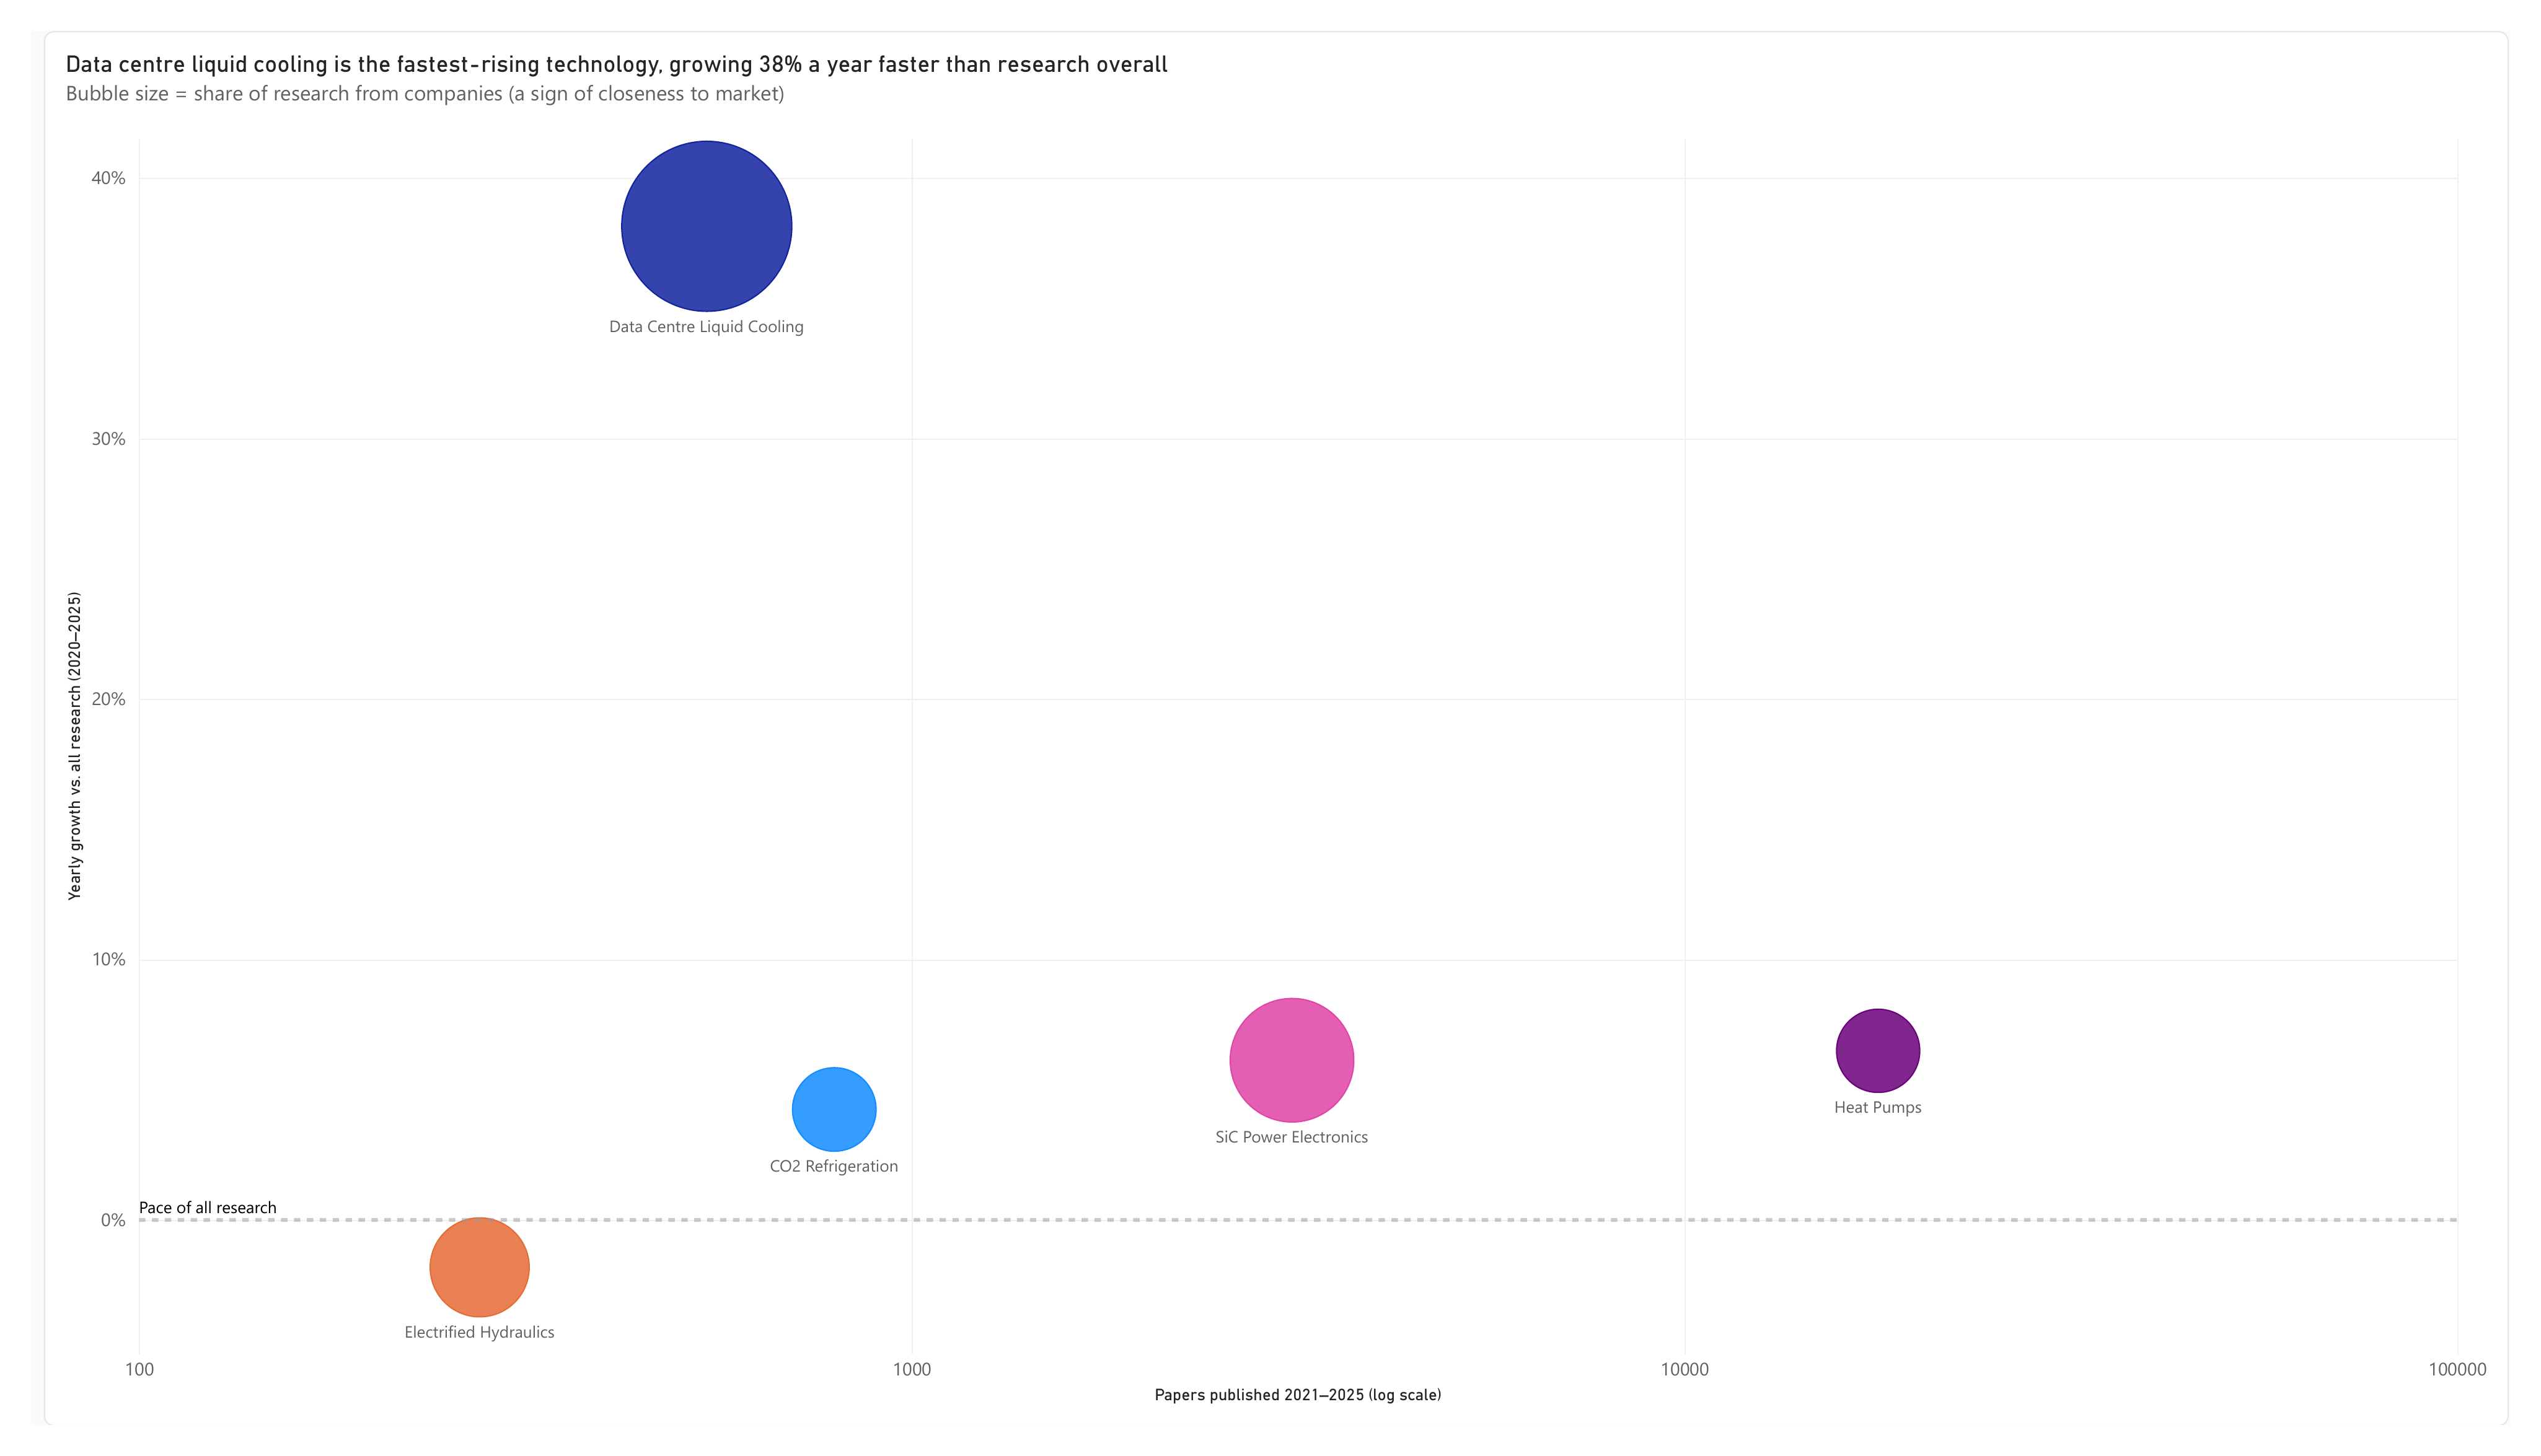

This screenshot's page, from the dashboard's own definition file:
{"tool":"powerbi","page":{"name":"Radar","canvas":[1920,1080],"ordinal":0},"visuals":[{"type":"scatterChart","title":"Data centre liquid cooling is the fastest-rising technology, growing 38% a year faster than research overall","fields":{"Category":["Technology.technology"],"Series":["Technology.technology"],"Size":["_Measures.Company Share %"],"X":["_Measures.Papers 2021-2025"],"Y":["_Measures.Relative CAGR 5y"]},"box":[9.8,0,1909.6,1081.1],"z":0}]}

Visuals, with their boxes on the page's 1920x1080 design canvas (x1, y1, x2, y2). These are canvas units, not pixel positions in the 2541x1456 screenshot, which may show the page scaled, cropped or inside an application window:
"Data centre liquid cooling is the fastest-rising technology, growing 38% a year faster than research overall" scatterChart: (left=10, top=0, right=1919, bottom=1081)
